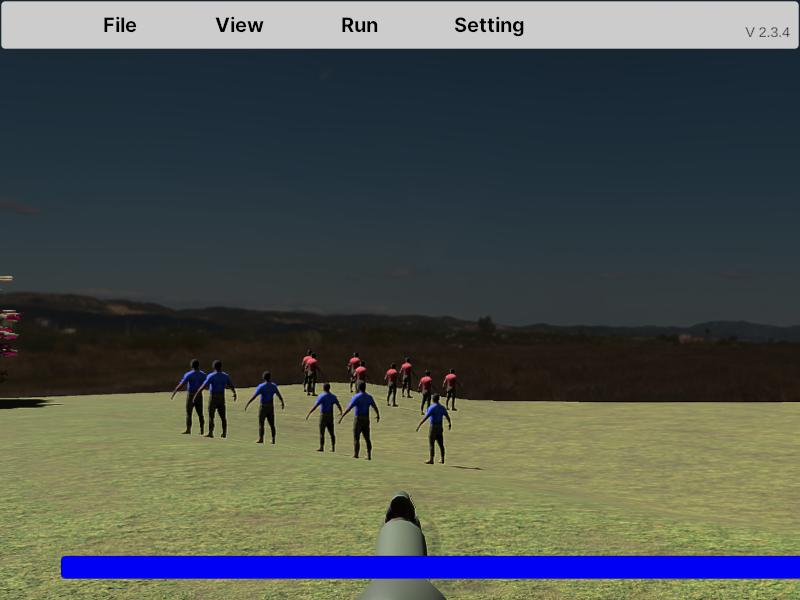Human: (192, 359, 237, 438), (194, 361, 237, 437), (172, 359, 215, 434), (341, 380, 380, 460), (246, 371, 285, 445), (307, 381, 343, 452), (417, 392, 452, 464), (417, 369, 437, 417), (384, 361, 402, 407), (399, 356, 415, 399)
